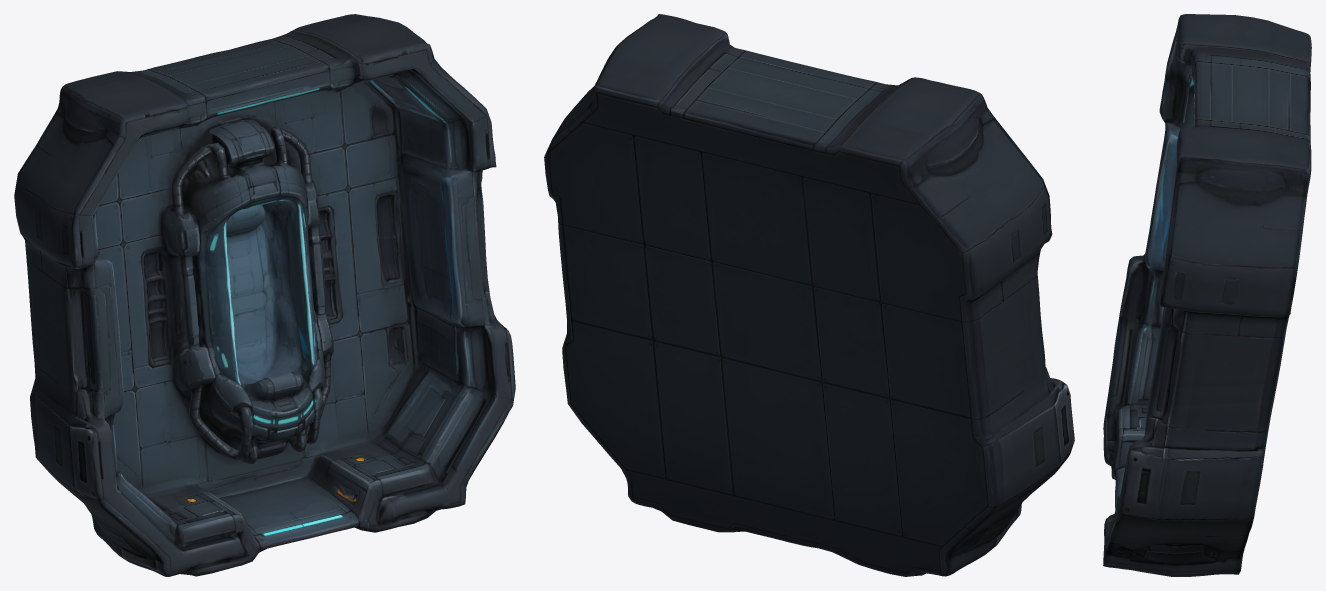
Rendered from stasis-chamber-room.glb.
3 views of the same model, side by side, from view 1: azimuth 30°, elevation 25°; view 2: azimuth 150°, elevation 25°; view 3: azimuth 270°, elevation 25° (orthographic). The views are drawn at different scales.
Visible parts, largest first — view 1: tripo_node_e9ce3fe1-1c2f-4fde-8d06-d6621510d998; view 2: tripo_node_e9ce3fe1-1c2f-4fde-8d06-d6621510d998; view 3: tripo_node_e9ce3fe1-1c2f-4fde-8d06-d6621510d998.
Boxes of the visible parts, x1,y1,x2,y2 form: tripo_node_e9ce3fe1-1c2f-4fde-8d06-d6621510d998: (14,14,515,576); tripo_node_e9ce3fe1-1c2f-4fde-8d06-d6621510d998: (544,14,1074,576); tripo_node_e9ce3fe1-1c2f-4fde-8d06-d6621510d998: (1103,14,1311,576).
Size of the model in its own units: 0.9731 by 0.9769 by 0.4289.
Materials: 1 (1 with a texture image).
